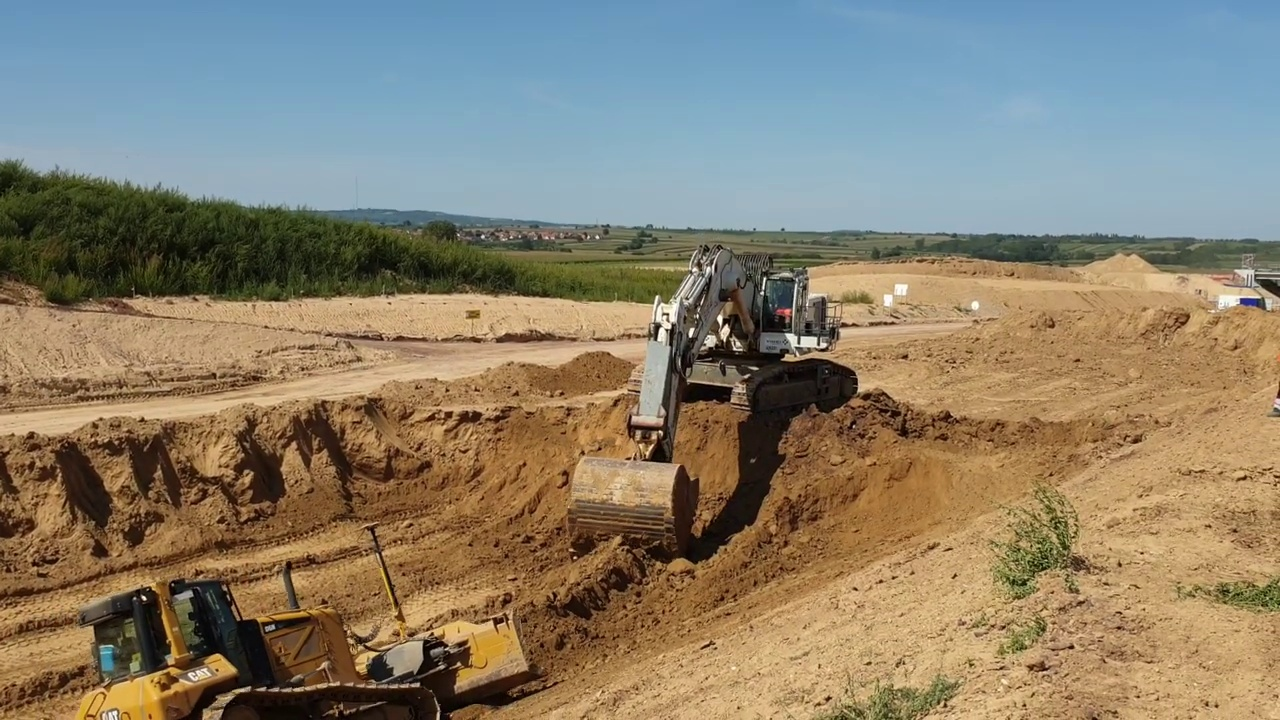bulldozer: (76, 519, 539, 720)
excavator: (566, 241, 857, 561)
